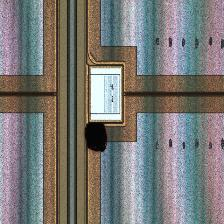PARTICLE: (82, 122, 114, 154)
